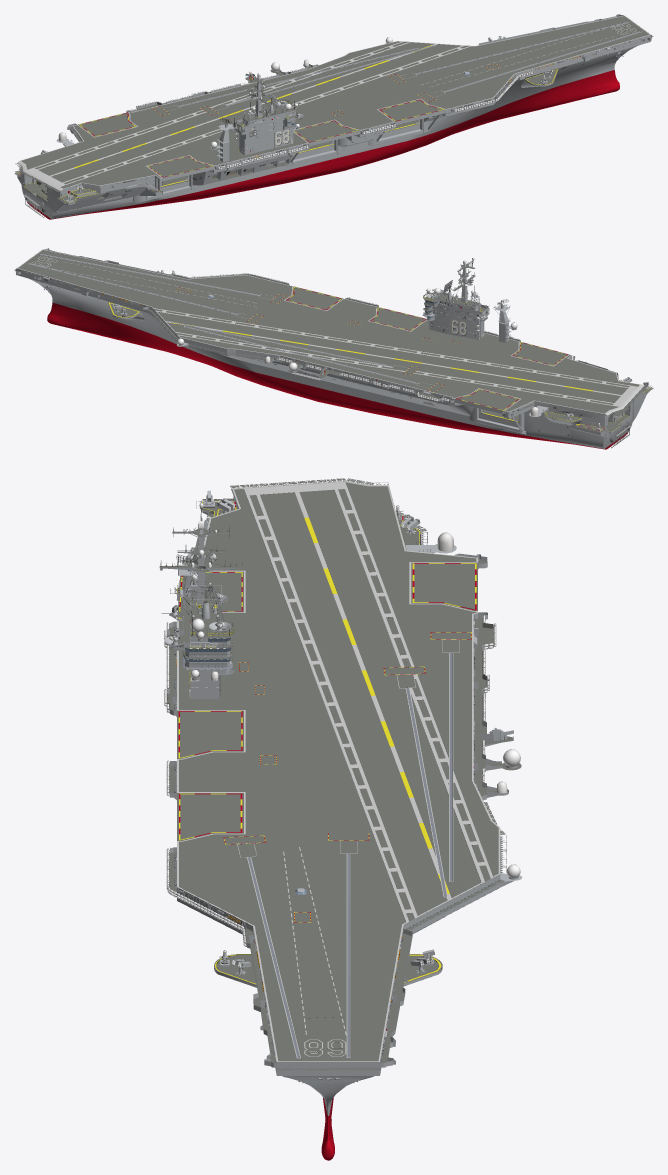
The model's file is uss_nimitz_cvn-68_aircraft_carrier-maximum-compressed.glb.
The picture shows the model from 3 angles, top to bottom: view 1: azimuth 30°, elevation 25°; view 2: azimuth 150°, elevation 25°; view 3: azimuth 270°, elevation 25°; orthographic projection. The views are drawn at different scales.
Visible parts, largest first — view 1: Material2 (×5), Material3 (×4); view 2: Material2 (×5), Material3 (×4); view 3: Material2 (×5), Material3 (×4).
Boxes of the visible parts, box(x1,y1,x2,y2) form: Material2 (×5): box(14, 14, 653, 219); Material3 (×4): box(17, 22, 640, 219); Material2 (×5): box(14, 248, 653, 448); Material3 (×4): box(19, 254, 650, 449); Material2 (×5): box(159, 478, 522, 1115); Material3 (×4): box(164, 501, 520, 1160).
Bounding box in the file's own units: 13322 × 2910 × 3601.
